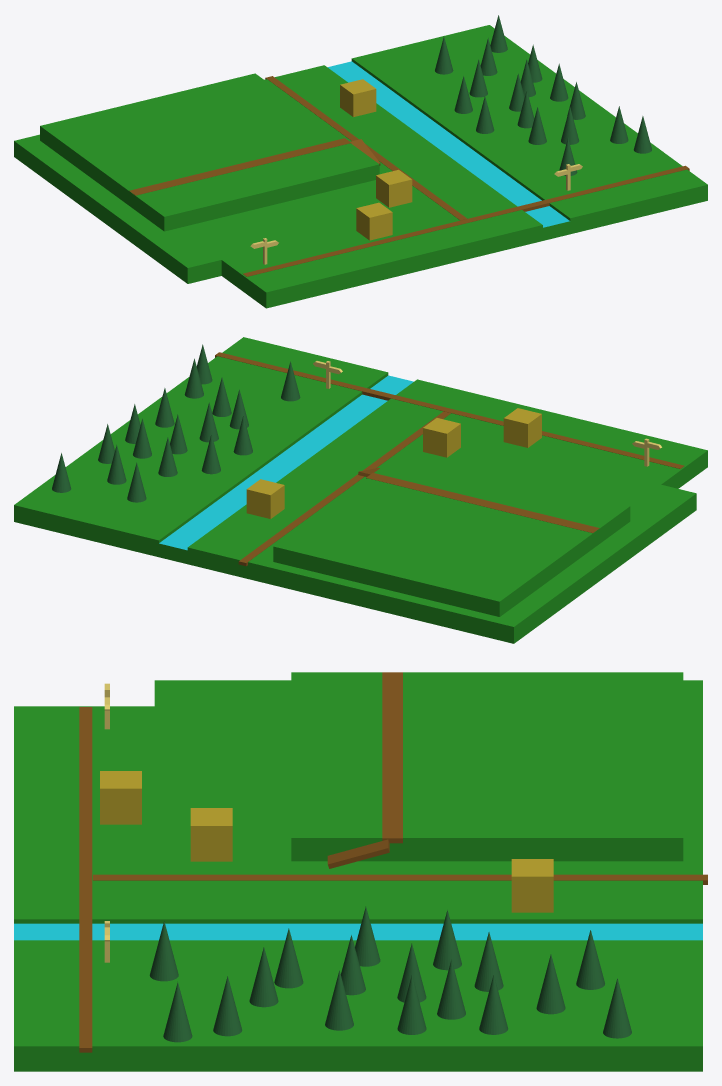
Rendered from Village.fbx.
3 renders of one model, top to bottom at view 1: azimuth 30°, elevation 25°; view 2: azimuth 150°, elevation 25°; view 3: azimuth 270°, elevation 25°, orthographic. The views are drawn at different scales.
Parts seen in each view (by area): view 1: Plane.001, Cube.004, Cube, Cube.008, Cube.003, Cube.002, Cube.005, Cube.006; view 2: Plane.001, Cube.004, Cube, Cube.008, Cube.003, Cube.006, Cube.002, Cube.005; view 3: Plane.001, Cube.004, Cube, Cube.003, Cube.008, Cube.005, Cube.006, Cube.002, Cone.009, Cone.012, Cone.004, Cone.016 (+14 smaller).
Part boxes in pixels (x1,y1,x2,y2): Plane.001: (14,25,707,308); Cube.004: (40,73,379,231); Cube: (243,165,689,276); Cube.008: (129,138,351,195); Cube.003: (265,76,467,220); Cube.002: (356,202,392,240); Cube.005: (376,169,412,207); Cube.006: (340,79,376,116); Plane.001: (14,337,707,643); Cube.004: (273,451,630,616); Cube: (215,352,684,468); Cube.008: (366,473,599,533); Cube.003: (238,411,450,566); Cube.006: (246,479,284,518); Cube.002: (503,408,541,447); Cube.005: (423,418,460,457); Plane.001: (14,680,702,1071); Cube.004: (291,672,683,861); Cube: (79,707,92,1052); Cube.003: (93,874,707,884); Cube.008: (382,672,402,843); Cube.005: (190,808,232,861); Cube.006: (511,859,553,912); Cube.002: (100,771,141,824); Cone.009: (274,928,303,988); Cone.012: (536,954,565,1014); Cone.004: (325,970,353,1030); Cone.016: (163,982,192,1042).
Size of the model in its own units: 32820 by 3325 by 26157.
